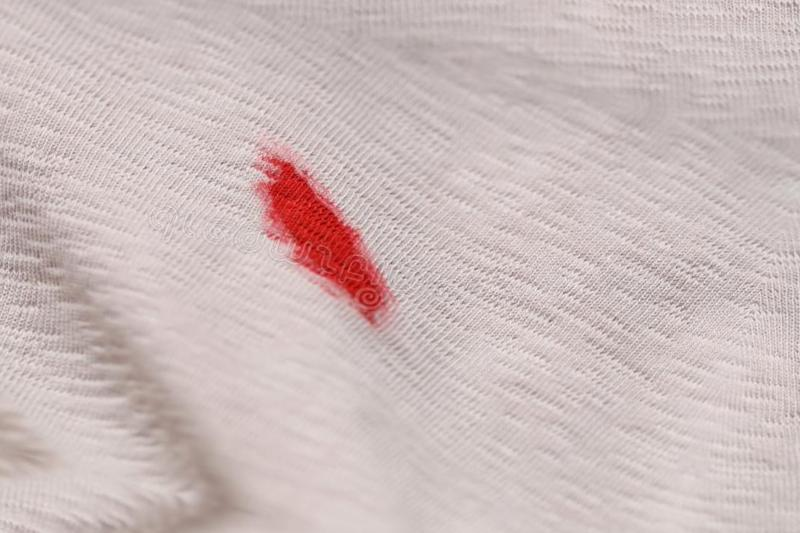stain: (248, 129, 416, 340)
